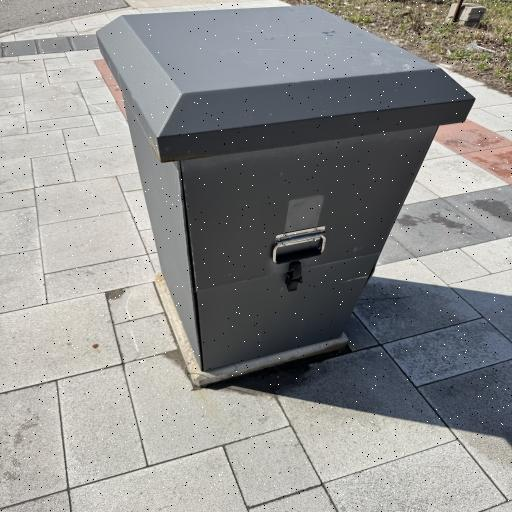Electrical Box: (96, 4, 473, 369)
